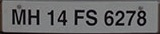character: (11, 8, 26, 25), (27, 8, 40, 26), (85, 8, 97, 26), (73, 9, 84, 25), (114, 10, 125, 26), (57, 9, 67, 26), (103, 9, 113, 26), (125, 10, 135, 26), (136, 10, 146, 26), (46, 9, 54, 26)
